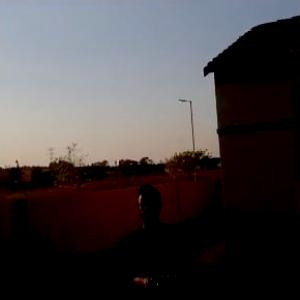follow: (120, 172, 197, 299)
